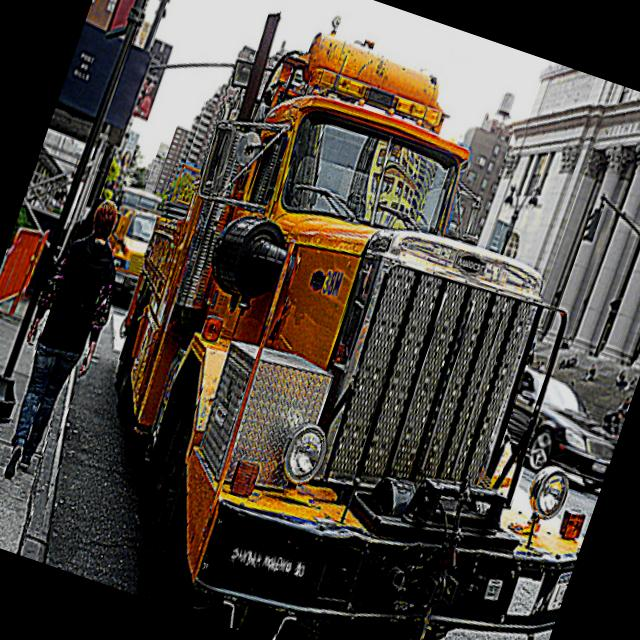Vehicle: (36, 0, 640, 640), (496, 364, 631, 495), (96, 202, 160, 292), (112, 183, 164, 230)
